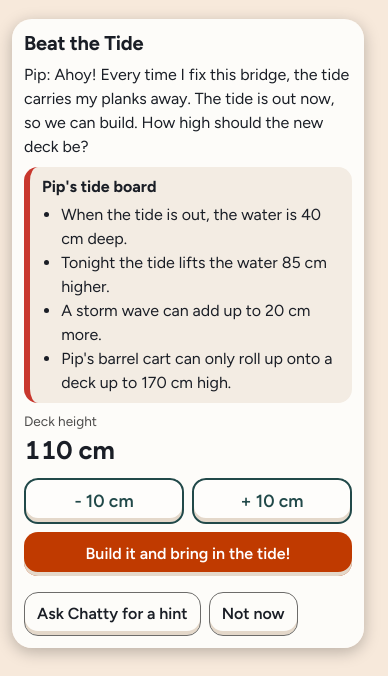
Test: TideTrialPanel › keeps the win on screen but says so calmly when it cannot be saved
Click the button with aria-label "Raise the deck" at (272, 501), box [192, 478, 352, 524]
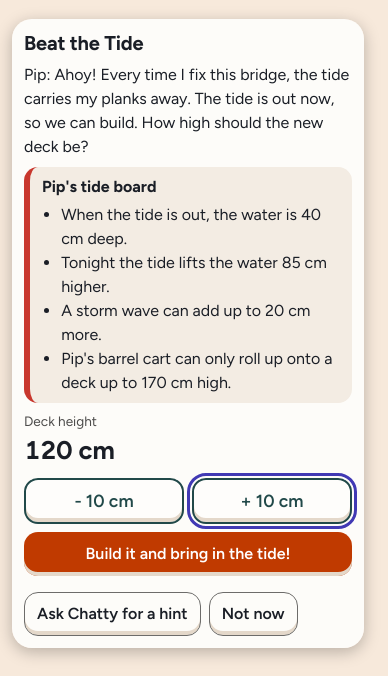
Click the button with aria-label "Raise the deck" at (272, 501), box [192, 478, 352, 524]
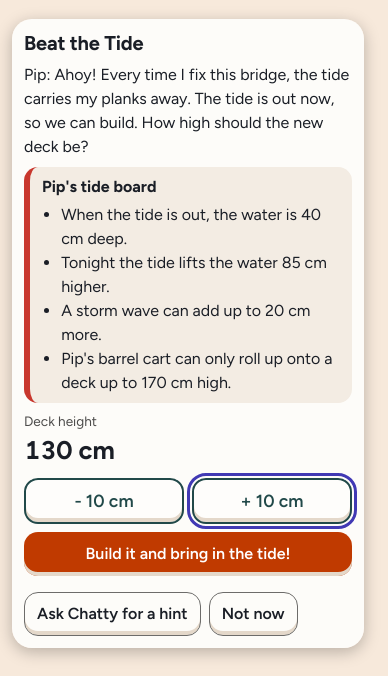
Click the button with aria-label "Raise the deck" at (272, 501), box [192, 478, 352, 524]
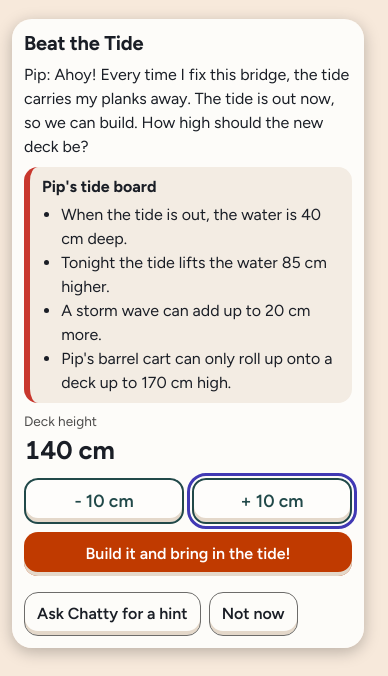
Click the button with aria-label "Raise the deck" at (272, 501), box [192, 478, 352, 524]
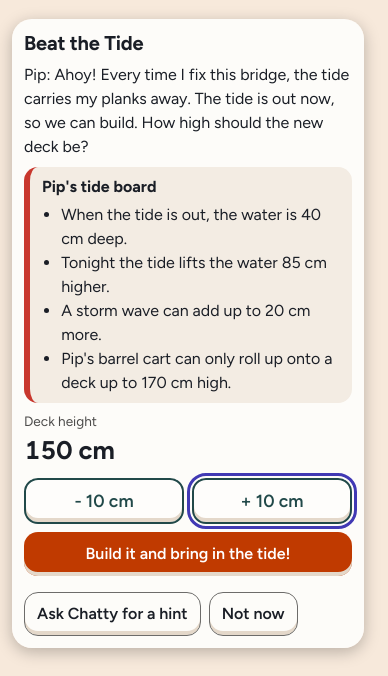
Click the button with aria-label "Raise the deck" at (272, 501), box [192, 478, 352, 524]
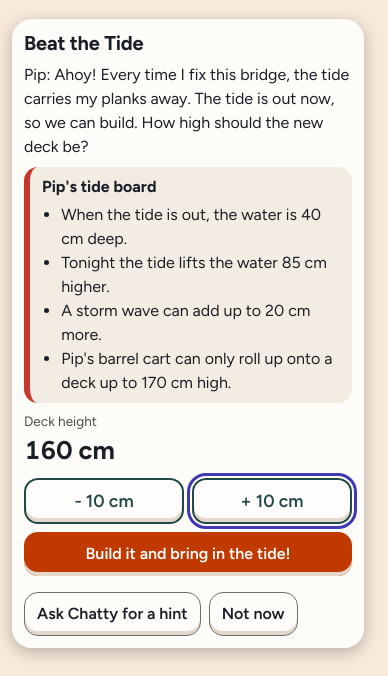
Click the button "Build it and bring in the tide!" at (188, 554), box [24, 532, 352, 576]
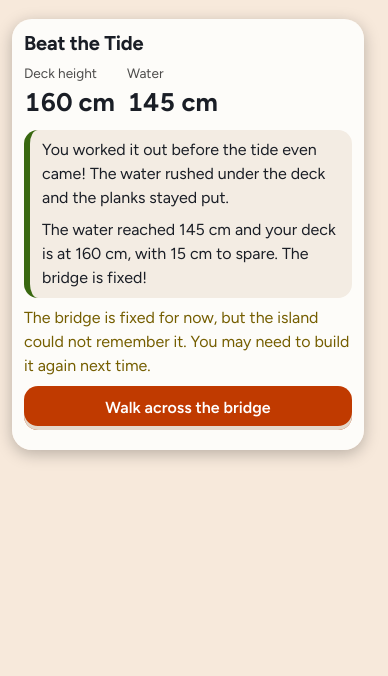
Expected: the message shows "could not remember it", [24, 308, 349, 375]
Expected: the button "Walk across the bridge" is shown, [24, 386, 352, 430]
